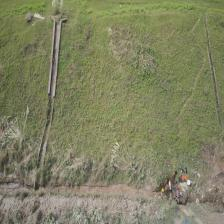slope drain: (39, 12, 67, 176), (201, 13, 224, 134)
